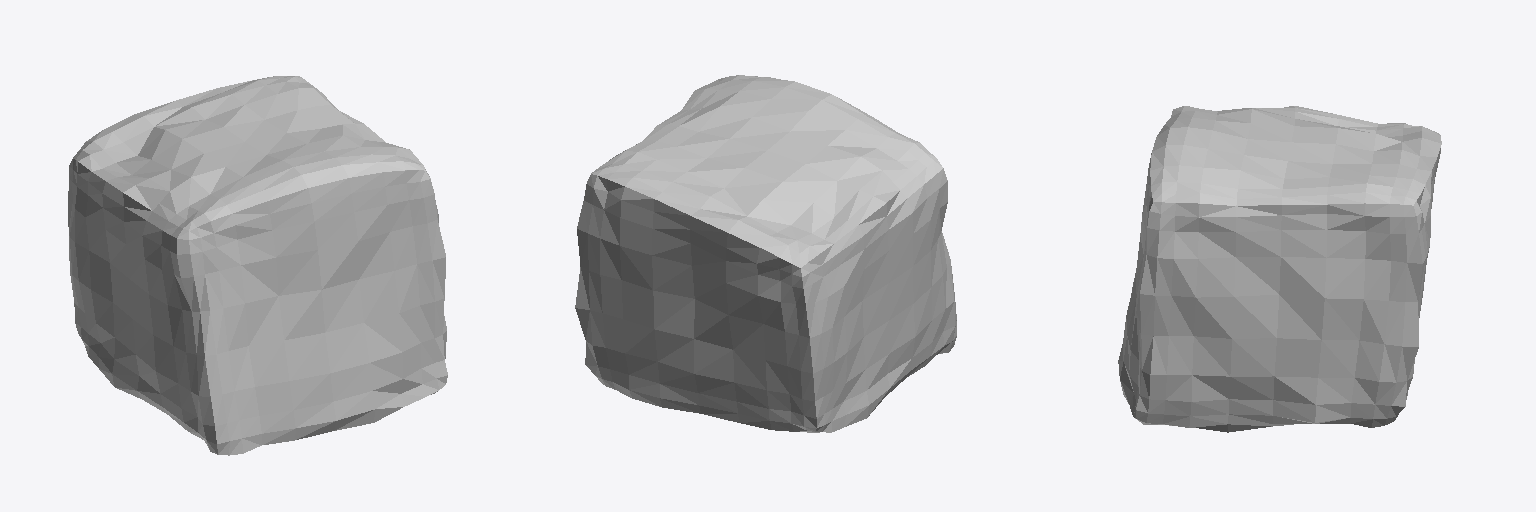
File: stone2.OBJ
The picture shows the model from 3 angles: view 1: azimuth 30°, elevation 25°; view 2: azimuth 150°, elevation 25°; view 3: azimuth 270°, elevation 25°; orthographic projection.
Parts seen in each view (by area): view 1: stone2; view 2: stone2; view 3: stone2.
Boxes of the visible parts, <box> form: stone2: <box>68,76,447,455</box>; stone2: <box>575,75,956,432</box>; stone2: <box>1118,106,1441,432</box>.
Size of the model in its own units: 8.85 by 8.23 by 9.57.